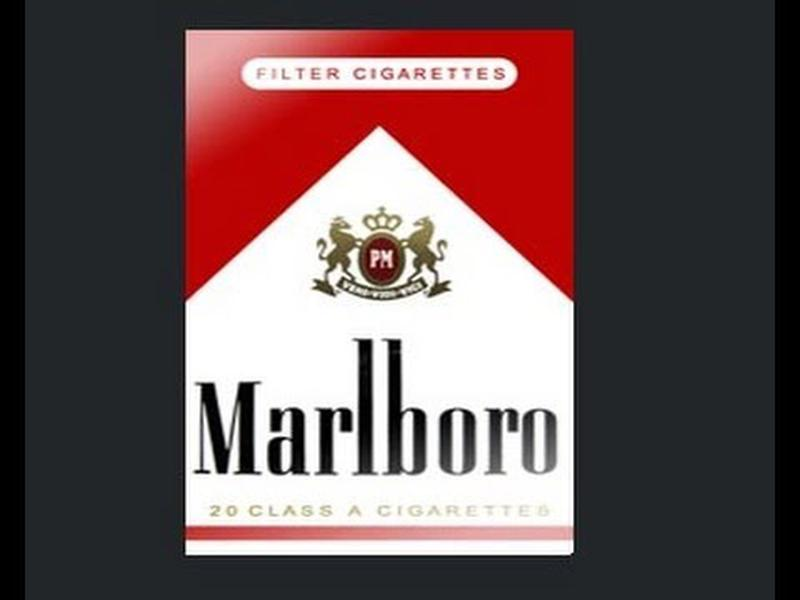marlboro_red: (183, 32, 574, 556)
